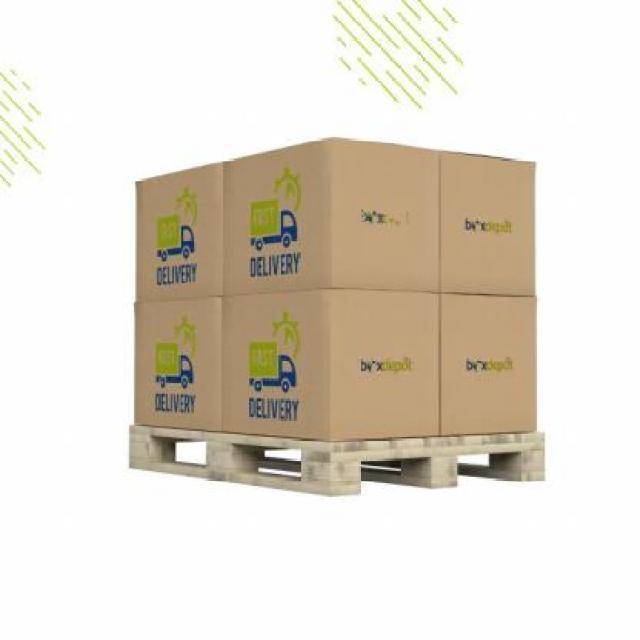box: (226, 135, 442, 307), (221, 287, 442, 447), (438, 286, 544, 441), (443, 143, 545, 298), (134, 294, 236, 436), (135, 157, 234, 302)
